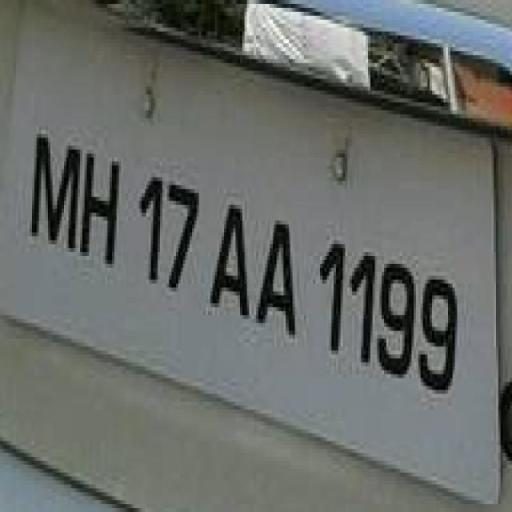number plate: (9, 39, 512, 434)
